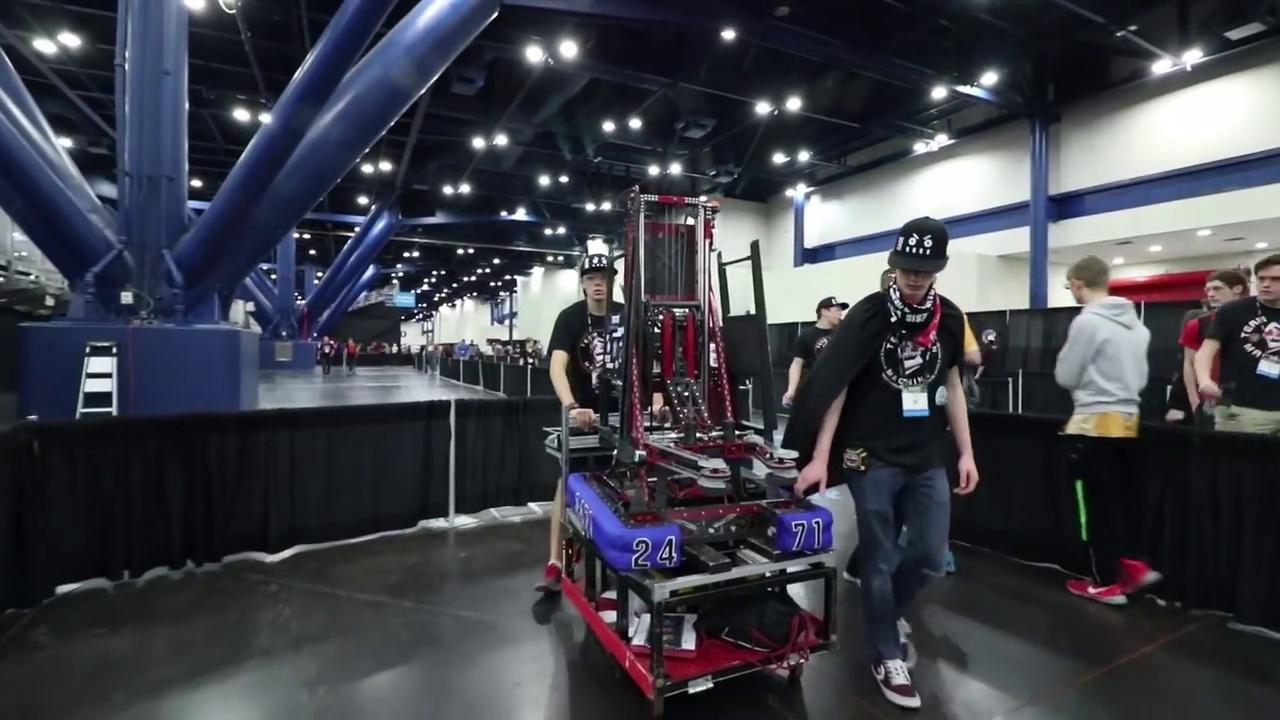robot: (562, 189, 836, 578)
